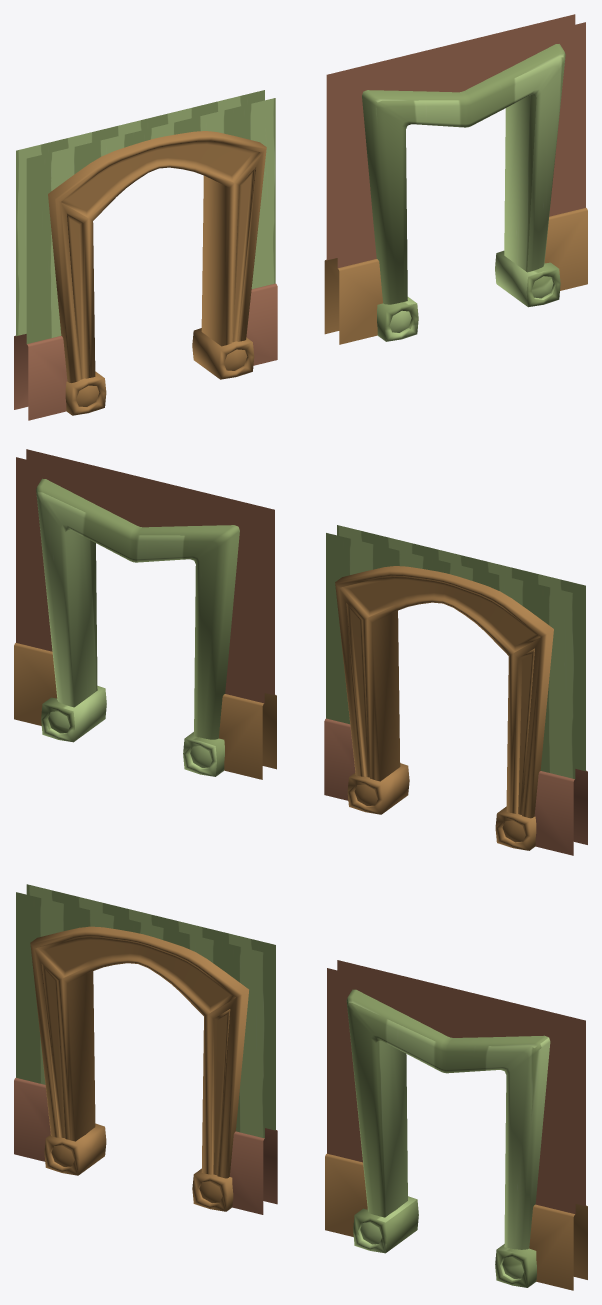
Rendered from Puertas arregladas.fbx.
3 renders of one model, top to bottom at view 1: azimuth 30°, elevation 25°; view 2: azimuth 150°, elevation 25°; view 3: azimuth 330°, elevation 25°, orthographic.
Parts seen in each view (by area): view 1: Cube.003, Cube.004, Cube.001, Cube.002, Cube.010, Cube.009, Cube.007, Cube.008, Cube.005, Cube.006; view 2: Cube.003, Cube.004, Cube.007, Cube.008, Cube.005, Cube.006, Cube.001, Cube.002, Cube.009, Cube.010; view 3: Cube.003, Cube.004, Cube.001, Cube.002, Cube.010, Cube.009, Cube.008, Cube.007, Cube.006, Cube.005.
Boxes of the visible parts, <box> form: Cube.003: <box>48,131,266,415</box>; Cube.004: <box>362,44,565,341</box>; Cube.001: <box>337,22,585,267</box>; Cube.002: <box>26,98,275,343</box>; Cube.010: <box>338,208,587,344</box>; Cube.009: <box>27,283,277,420</box>; Cube.007: <box>326,14,575,260</box>; Cube.008: <box>16,90,264,336</box>; Cube.005: <box>324,258,339,334</box>; Cube.006: <box>14,334,28,409</box>; Cube.003: <box>335,566,553,850</box>; Cube.004: <box>36,478,239,776</box>; Cube.007: <box>16,457,264,703</box>; Cube.008: <box>326,533,575,778</box>; Cube.005: <box>14,643,263,779</box>; Cube.006: <box>324,718,574,855</box>; Cube.001: <box>26,449,274,695</box>; Cube.002: <box>337,525,585,771</box>; Cube.009: <box>573,769,587,844</box>; Cube.010: <box>262,693,276,769</box>; Cube.003: <box>30,926,248,1211</box>; Cube.004: <box>346,989,550,1287</box>; Cube.001: <box>327,968,575,1214</box>; Cube.002: <box>16,892,264,1138</box>; Cube.010: <box>325,1153,574,1290</box>; Cube.009: <box>14,1078,264,1214</box>; Cube.008: <box>26,884,275,1130</box>; Cube.007: <box>337,960,585,1206</box>; Cube.006: <box>263,1128,277,1204</box>; Cube.005: <box>573,1204,587,1279</box>.
Size of the model in its own units: 1347 by 603 by 145.
